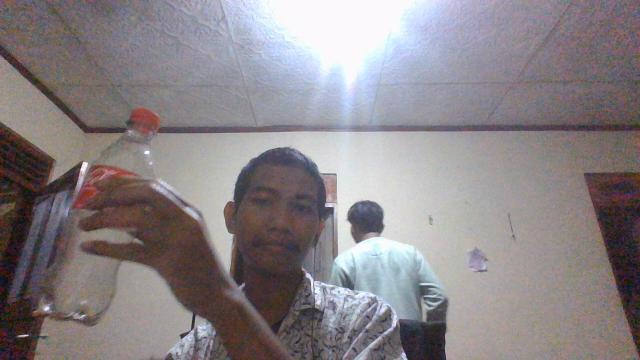coca-cola: (33, 106, 162, 330)
